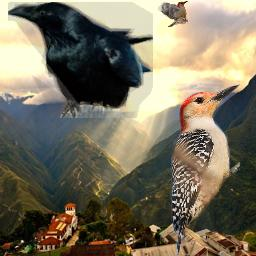Crow: (8, 2, 153, 118)
Woodpecker: (171, 83, 240, 255), (157, 0, 188, 27)
